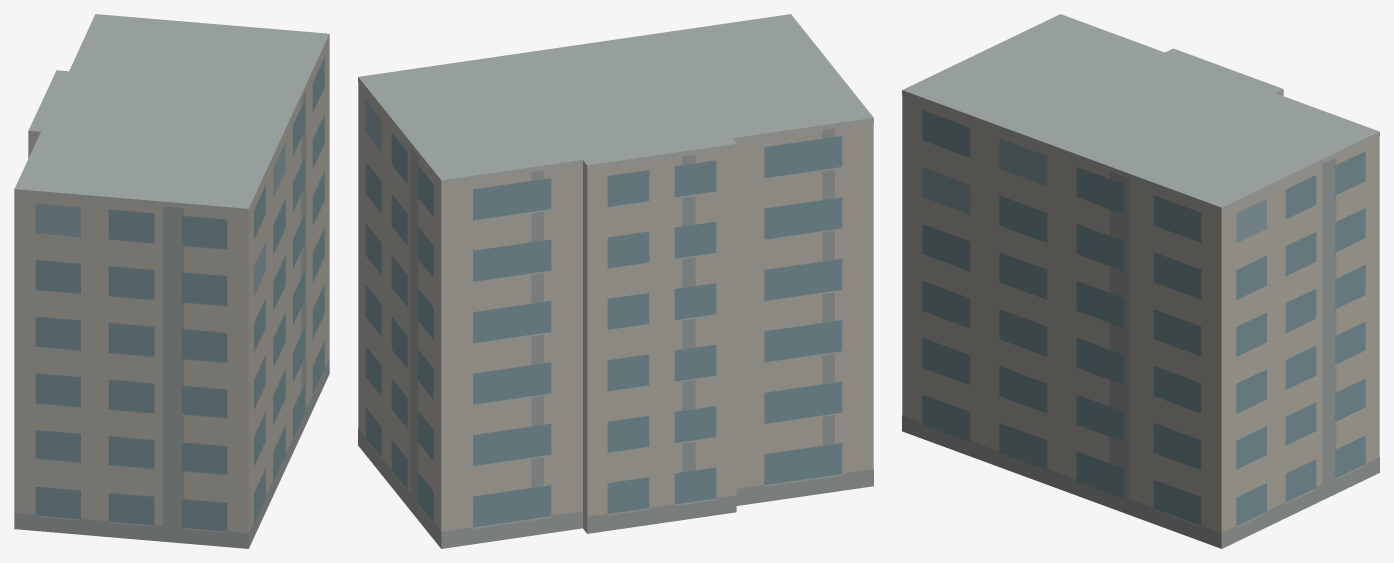
File: survey-upis-32966073.glb
The picture shows the model from 3 angles, left to right: view 1: azimuth 30°, elevation 25°; view 2: azimuth 150°, elevation 25°; view 3: azimuth 270°, elevation 25°; orthographic projection. The views are drawn at different scales.
Parts seen in each view (by area): view 1: survey-upis-32966073.tmp; view 2: survey-upis-32966073.tmp; view 3: survey-upis-32966073.tmp.
Part boxes in pixels (left/top/right/bottom): survey-upis-32966073.tmp: left=14, top=14, right=329, bottom=548; survey-upis-32966073.tmp: left=358, top=14, right=873, bottom=548; survey-upis-32966073.tmp: left=902, top=14, right=1379, bottom=548.
Size of the model in its own units: 21.19 by 17.4 by 22.08.
